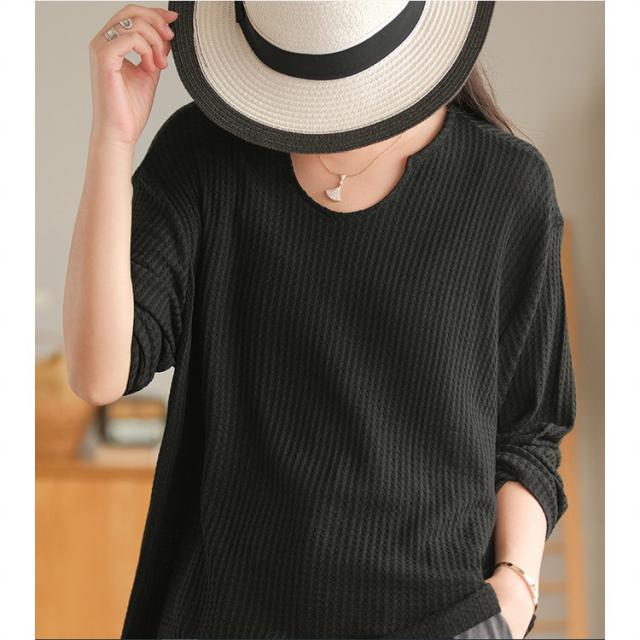Shirt: (110, 91, 584, 639)
